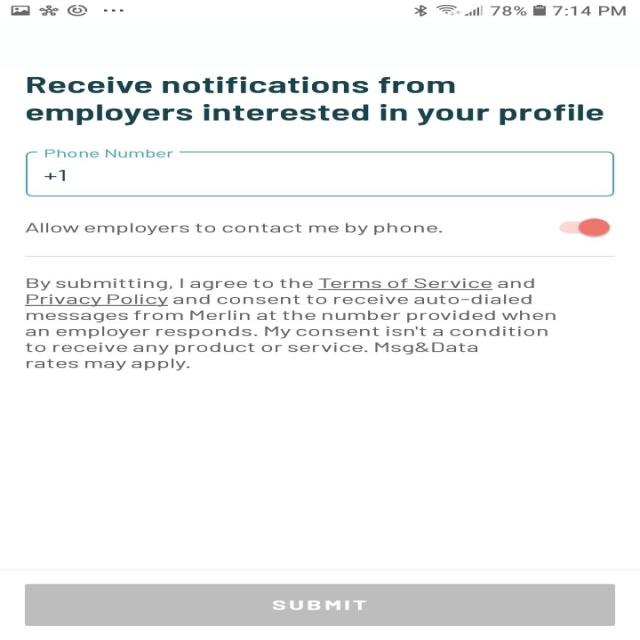EditText: (24, 148, 614, 196)
Text: (24, 278, 556, 370), (26, 76, 604, 125), (26, 222, 442, 235), (45, 149, 174, 158), (43, 170, 65, 181)
TextButton: (24, 584, 614, 626)
